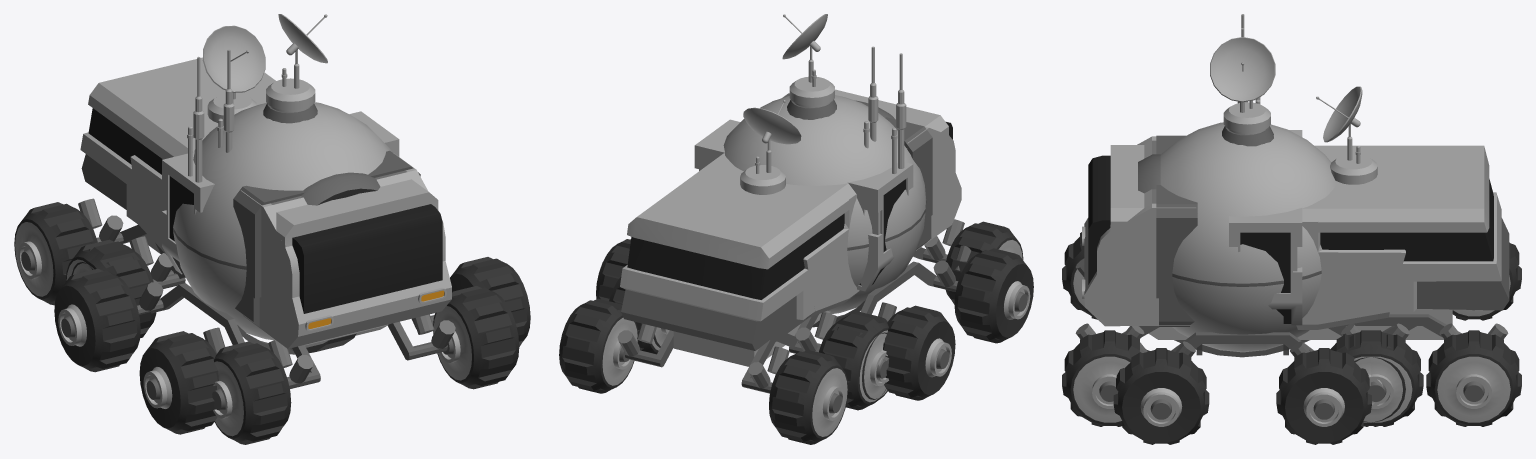
File: rover.glb
3 views of the same model, side by side, from view 1: azimuth 30°, elevation 25°; view 2: azimuth 150°, elevation 25°; view 3: azimuth 270°, elevation 25° (orthographic). The views are drawn at different scales.
Visible parts, largest first — view 1: Rover_2, Rover_Round, Rover_1, Wheel_2 (×3), Wheel_3 (×2), Wheel_4 (×2), Wheel_6; view 2: Rover_2, Rover_Round, Rover_1, Wheel_2 (×3), Wheel_4 (×2), Wheel_3, Wheel_1 (×2), Wheel_6; view 3: Rover_2, Rover_Round, Rover_1, Wheel_3 (×3), Wheel_1 (×3), Wheel_2 (×2).
Boxes of the visible parts, x1=… form: Rover_2: x1=78, y1=49, x2=455, y2=388; Rover_Round: x1=137, y1=14, x2=434, y2=354; Rover_1: x1=129, y1=25, x2=453, y2=383; Wheel_2 (×3): x1=14, y1=202, x2=291, y2=444; Wheel_3 (×2): x1=433, y1=257, x2=530, y2=389; Wheel_4 (×2): x1=54, y1=239, x2=140, y2=372; Wheel_6: x1=71, y1=245, x2=156, y2=338; Rover_2: x1=617, y1=46, x2=961, y2=393; Rover_Round: x1=723, y1=14, x2=971, y2=327; Rover_1: x1=694, y1=53, x2=964, y2=353; Wheel_2 (×3): x1=769, y1=221, x2=1033, y2=444; Wheel_4 (×2): x1=819, y1=305, x2=955, y2=410; Wheel_3: x1=559, y1=298, x2=638, y2=393; Wheel_1 (×2): x1=596, y1=239, x2=669, y2=354; Wheel_6: x1=837, y1=312, x2=889, y2=399; Rover_2: x1=1075, y1=28, x2=1509, y2=339; Rover_Round: x1=1138, y1=37, x2=1337, y2=357; Rover_1: x1=1076, y1=14, x2=1409, y2=339; Wheel_3 (×3): x1=1062, y1=330, x2=1521, y2=444; Wheel_1 (×3): x1=1276, y1=330, x2=1423, y2=444; Wheel_2 (×2): x1=1062, y1=232, x2=1521, y2=320.
Size of what is drawn, in the model's own units: 5.79 by 5.17 by 6.56.
Materials: 1 (1 with a texture image).
